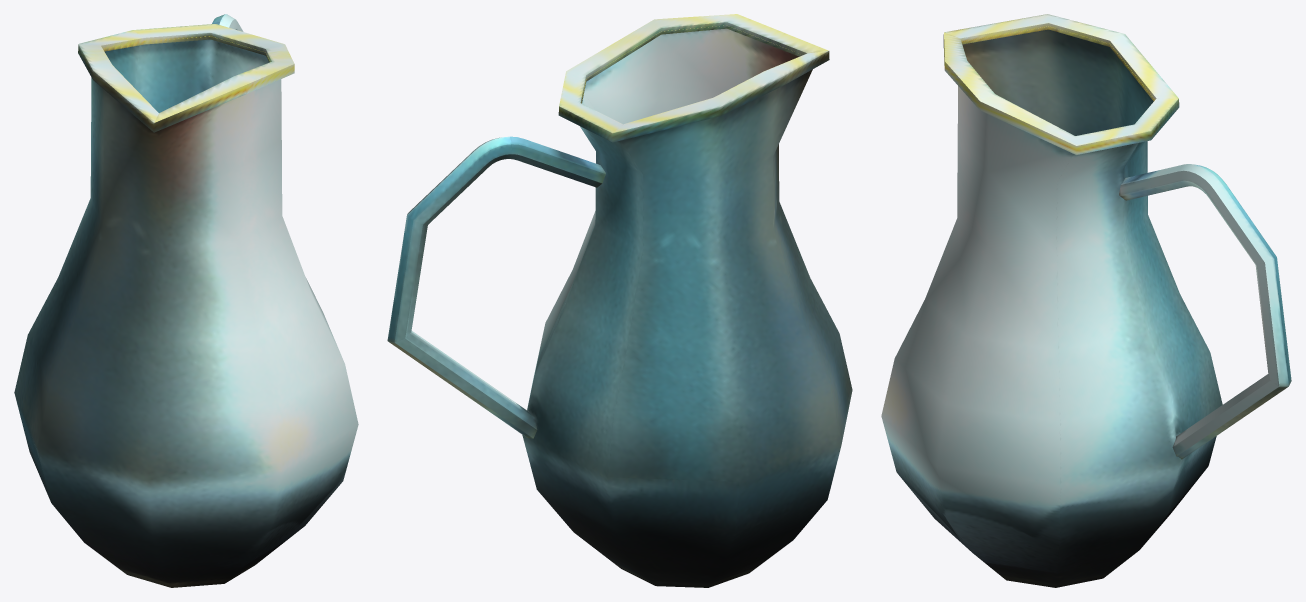
File: tetera.obj
3 renders of one model, left to right at view 1: azimuth 30°, elevation 25°; view 2: azimuth 150°, elevation 25°; view 3: azimuth 270°, elevation 25°, orthographic. The views are drawn at different scales.
Parts seen in each view (by area): view 1: pasted__pasted__polySurface10 pasted__pasted__pasted__table past; view 2: pasted__pasted__polySurface10 pasted__pasted__pasted__table past, group pasted__pasted__polySurface20 pasted__pasted__pasted__tabl; view 3: pasted__pasted__polySurface10 pasted__pasted__pasted__table past, group pasted__pasted__polySurface20 pasted__pasted__pasted__tabl.
Boxes of the visible parts, x1=… form: pasted__pasted__polySurface10 pasted__pasted__pasted__table past: x1=14, y1=24, x2=358, y2=587; pasted__pasted__polySurface10 pasted__pasted__pasted__table past: x1=522, y1=14, x2=852, y2=587; group pasted__pasted__polySurface20 pasted__pasted__pasted__tabl: x1=387, y1=136, x2=605, y2=438; pasted__pasted__polySurface10 pasted__pasted__pasted__table past: x1=881, y1=14, x2=1222, y2=587; group pasted__pasted__polySurface20 pasted__pasted__pasted__tabl: x1=1119, y1=164, x2=1291, y2=459.
Size of the model in its own units: 0.4524 by 0.655 by 0.4872.
Materials: 2 (2 with a texture image).
